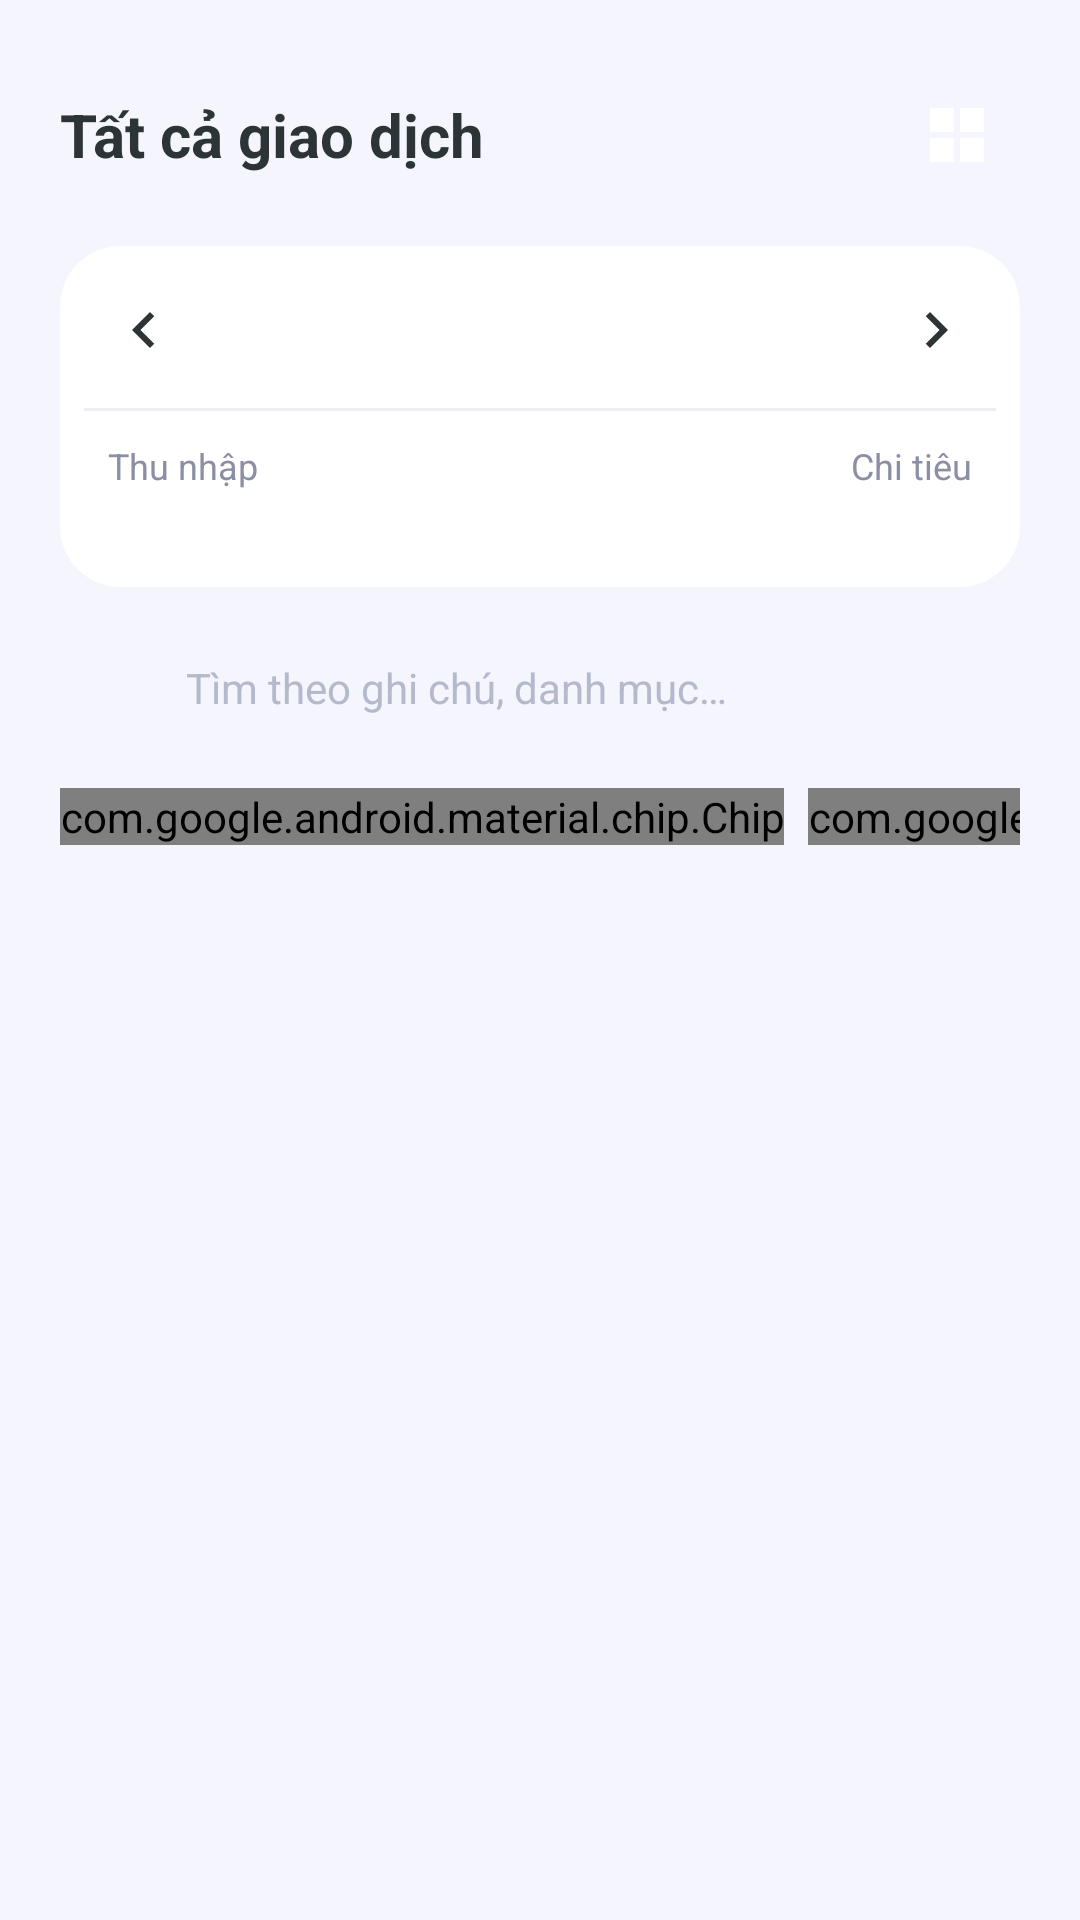

Locate icon controls on the screen. Image size 1080 × 1920, boxes as bbox=(x1, y1, x2, y2).
Tháng sau: bbox=(926, 312, 948, 348)
Tháng trước: bbox=(132, 312, 154, 348)
